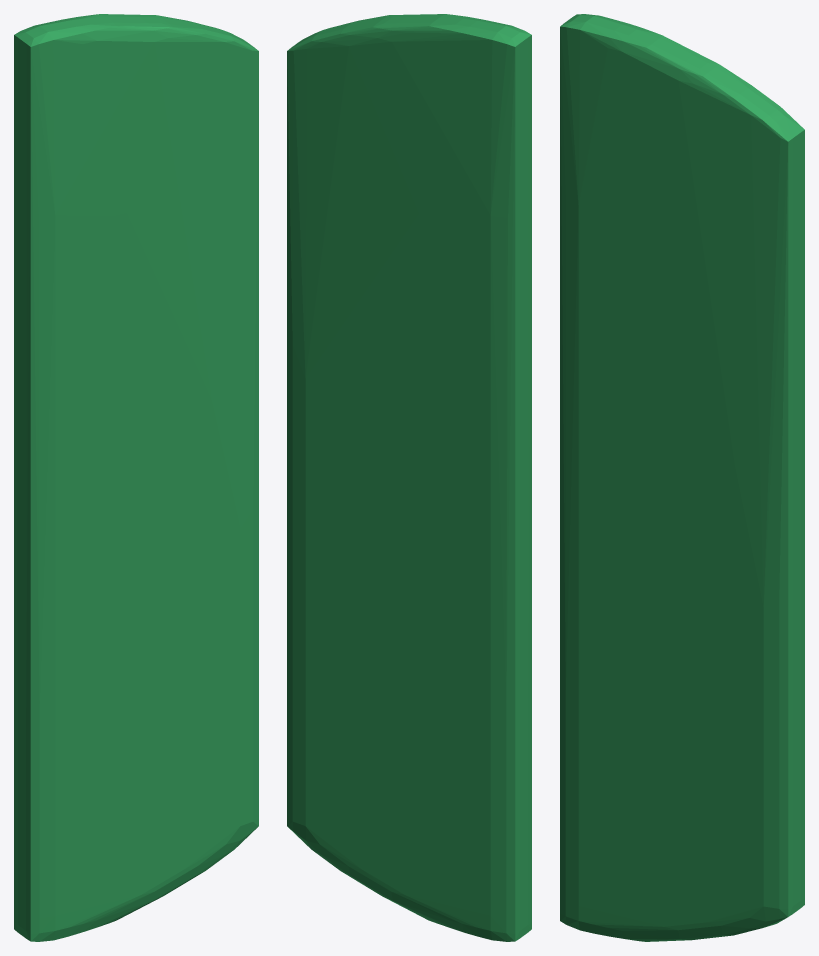
File: right_forearm_0_part_10.obj
3 views of the same model, side by side, from view 1: azimuth 30°, elevation 25°; view 2: azimuth 150°, elevation 25°; view 3: azimuth 330°, elevation 25° (orthographic).
Size of the model in its own units: 36.15 by 137 by 6.22.
